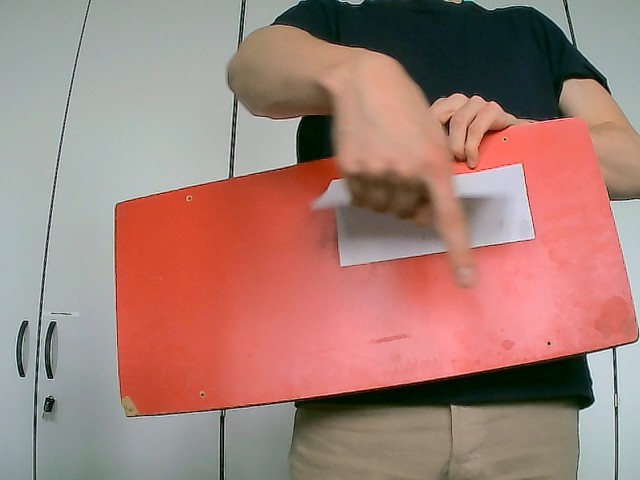down: (324, 47, 480, 289)
no_gesture: (428, 92, 523, 165)
